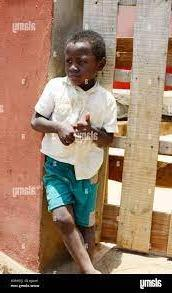Human: (29, 23, 127, 293)
